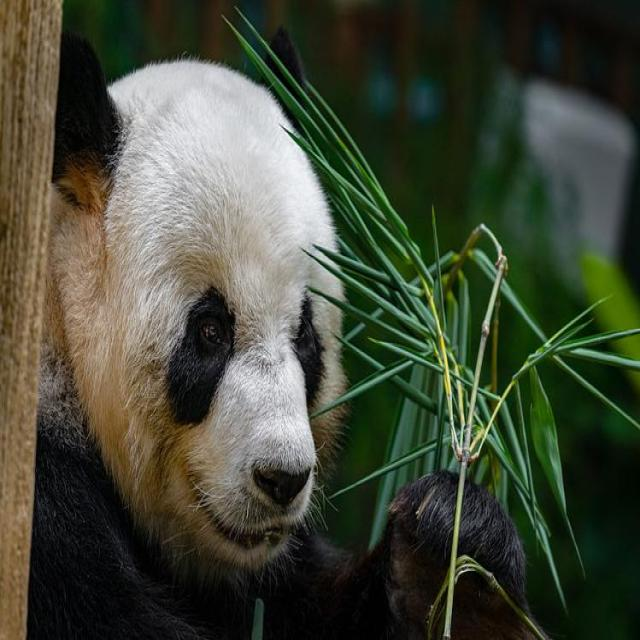panda: (21, 18, 540, 640)
